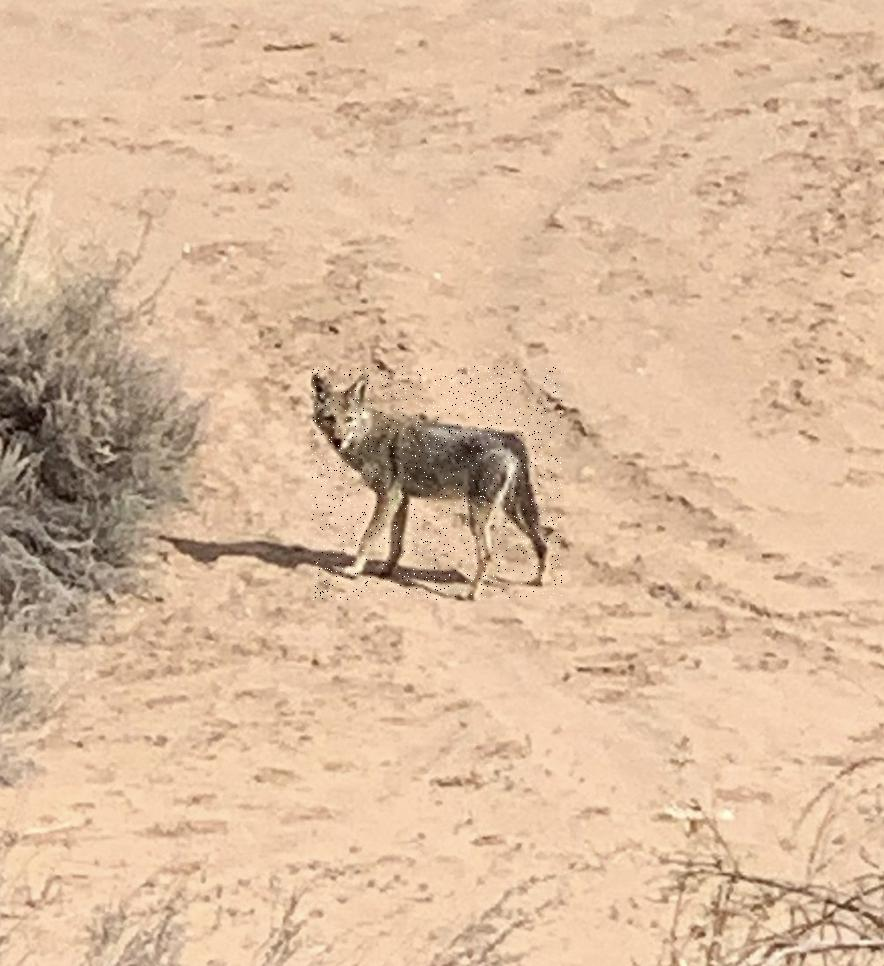Coyote: (312, 366, 563, 600)
